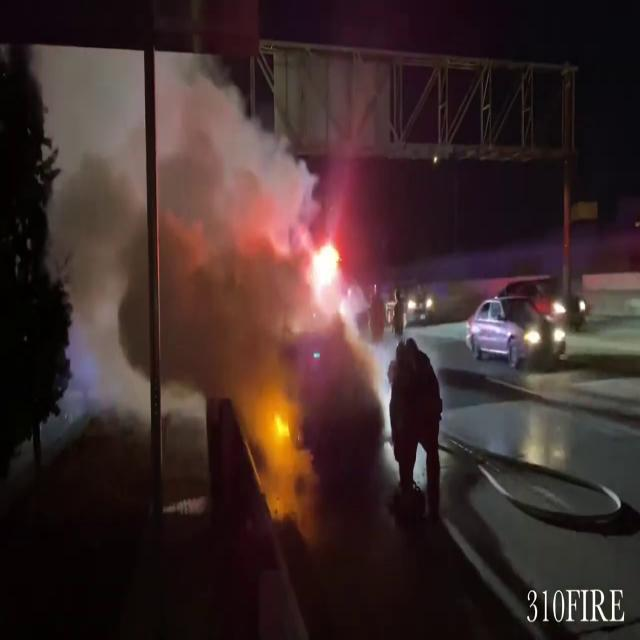Fire: (304, 217, 346, 307)
Smoke: (42, 56, 406, 552)
